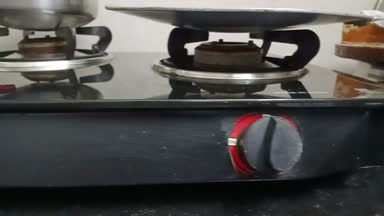noflame_gason: (173, 29, 305, 181)
